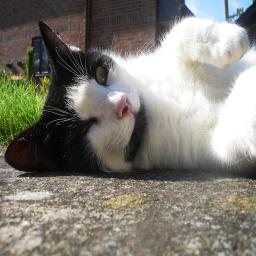catnose: (112, 92, 134, 120)
